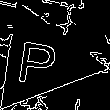P_N: (19, 32, 66, 87)
